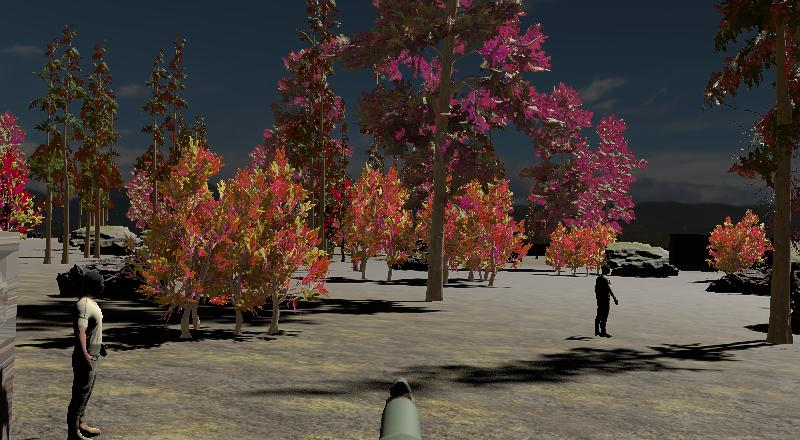Human: (65, 260, 113, 440)
